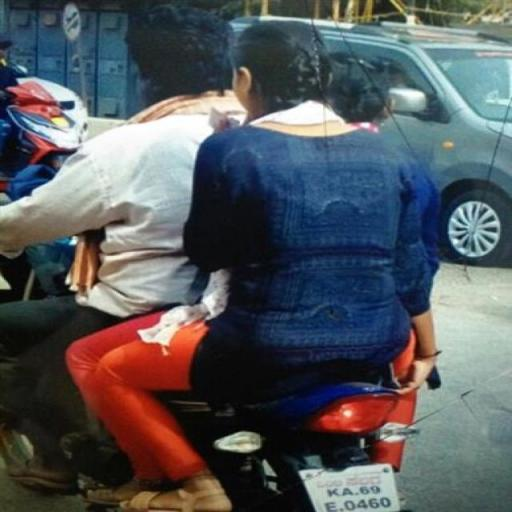tripple riding: (2, 5, 488, 389)
